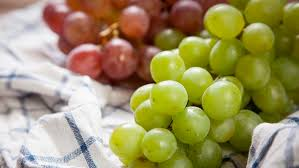Green grapes: (116, 56, 252, 168)
